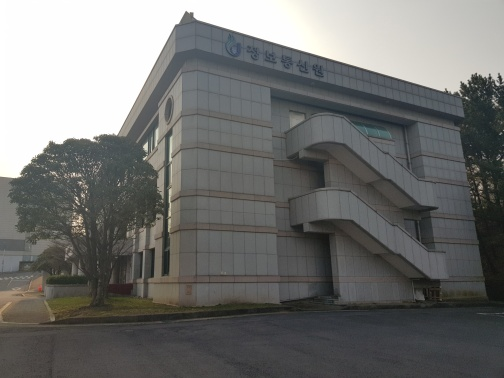Engineering College Building 4: (1, 176, 74, 274)
Information Telecommunication Center: (177, 24, 485, 309), (219, 34, 343, 87)
